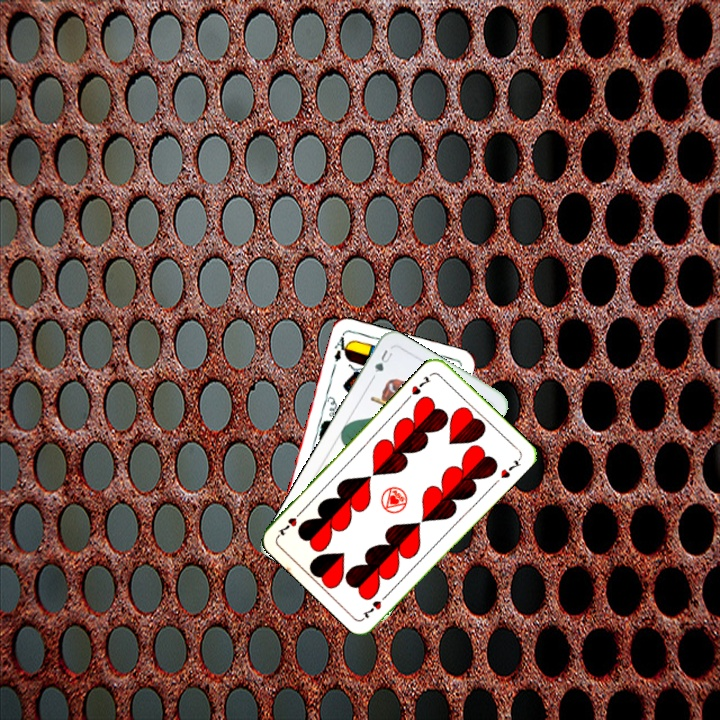EA: (330, 331, 352, 365)
GU: (370, 345, 396, 375)
H7: (358, 589, 391, 621), (407, 372, 433, 398)
